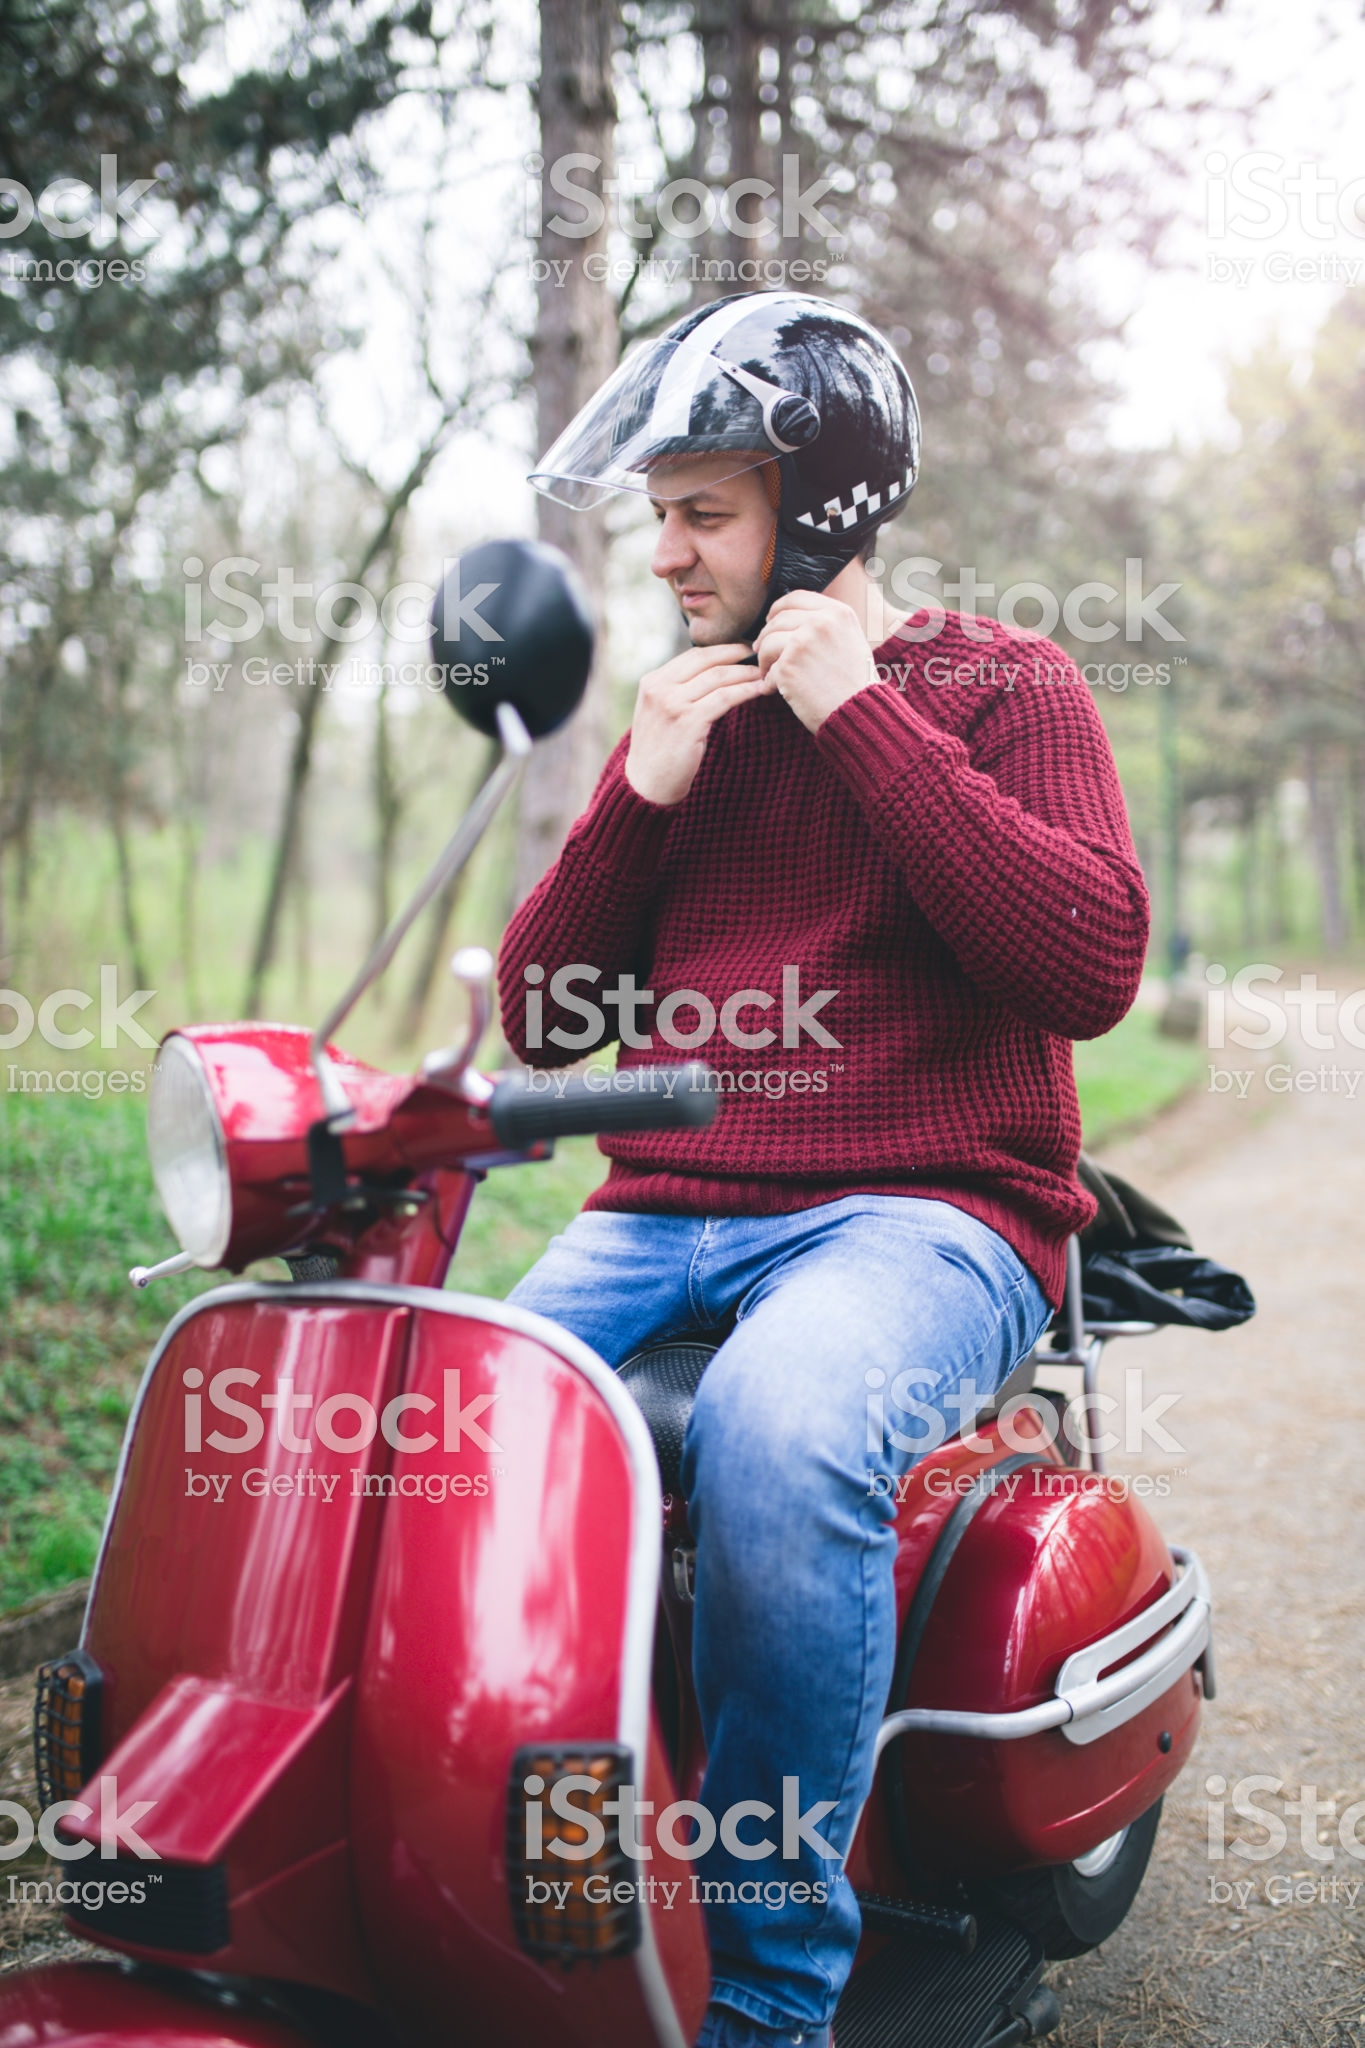helmet: (576, 291, 929, 550)
